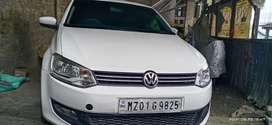MZ01G9825: (119, 98, 181, 112)
